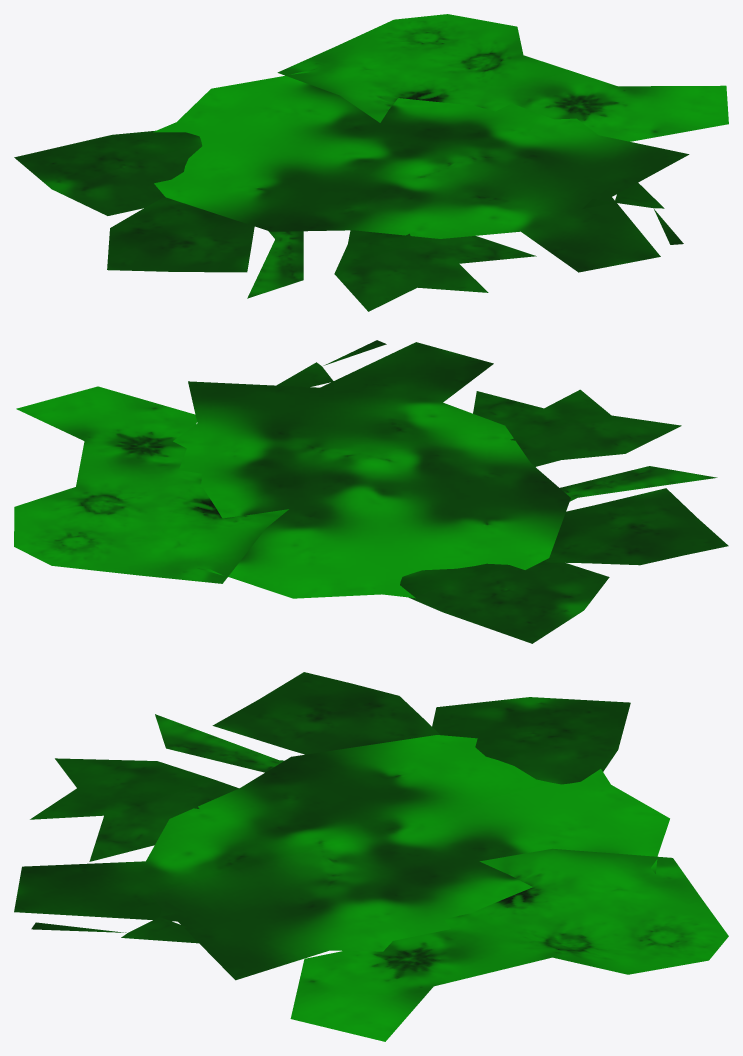
File: White Everlasting_LOD1_Var13_ucvobbbia.glb
3 views of the same model, one above another, from view 1: azimuth 30°, elevation 25°; view 2: azimuth 150°, elevation 25°; view 3: azimuth 270°, elevation 25° (orthographic). The views are drawn at different scales.
Parts seen in each view (by area): view 1: _9504_Var13_LOD1; view 2: _9504_Var13_LOD1; view 3: _9504_Var13_LOD1.
Boxes of the visible parts, <box> form: _9504_Var13_LOD1: <box>14,14,728,311</box>; _9504_Var13_LOD1: <box>14,340,728,643</box>; _9504_Var13_LOD1: <box>14,672,728,1041</box>.
Bounding box in the file's own units: 0.4627 × 0.0106 × 0.3793.
Materials: 1 (1 with a texture image).
